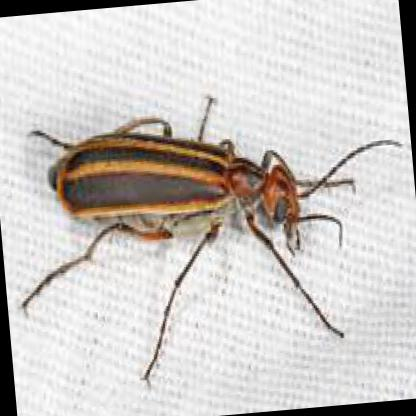blister beetle: (31, 113, 336, 329)
